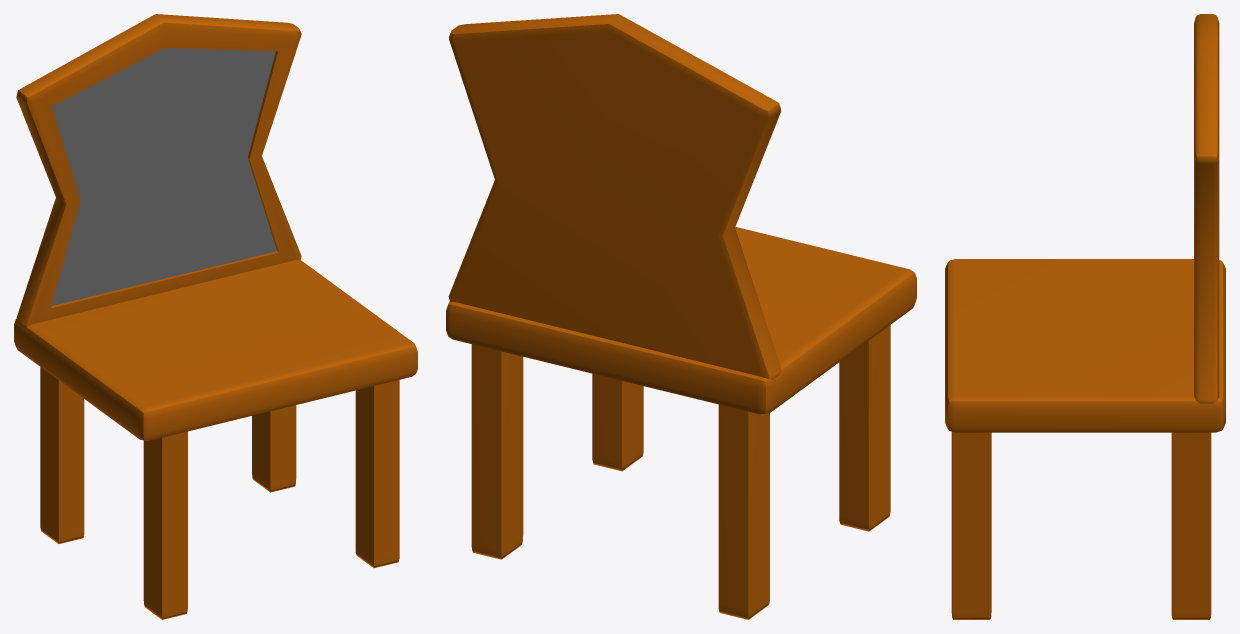
The model's file is chair.fbx.
3 renders of one model, left to right at view 1: azimuth 30°, elevation 25°; view 2: azimuth 150°, elevation 25°; view 3: azimuth 270°, elevation 25°, orthographic. The views are drawn at different scales.
Parts seen in each view (by area): view 1: pCube1; view 2: pCube1; view 3: pCube1.
Boxes of the visible parts, x1,y1,x2,y2 form: pCube1: (14,14,417,619); pCube1: (446,14,916,619); pCube1: (945,14,1225,619).
Bounding box in the file's own units: 6.27 × 10.47 × 5.14.
